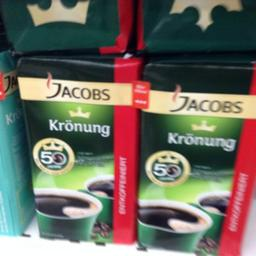coffee: (11, 55, 136, 242), (137, 62, 254, 255)
